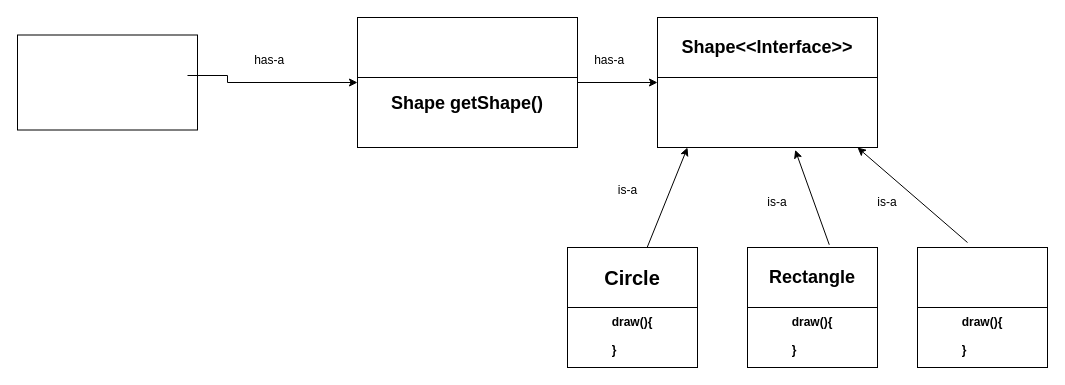
The diagram is 1065 pixels wide and 385 high, and some of its shapes have lost their labels. Here are the shapes that lost their labels. From the top down, the box of each, then its label:
(356, 16, 578, 78): ShapeFactory
(16, 34, 198, 130): main(){ }
(656, 16, 878, 148): void draw()
(916, 246, 1048, 308): Square
